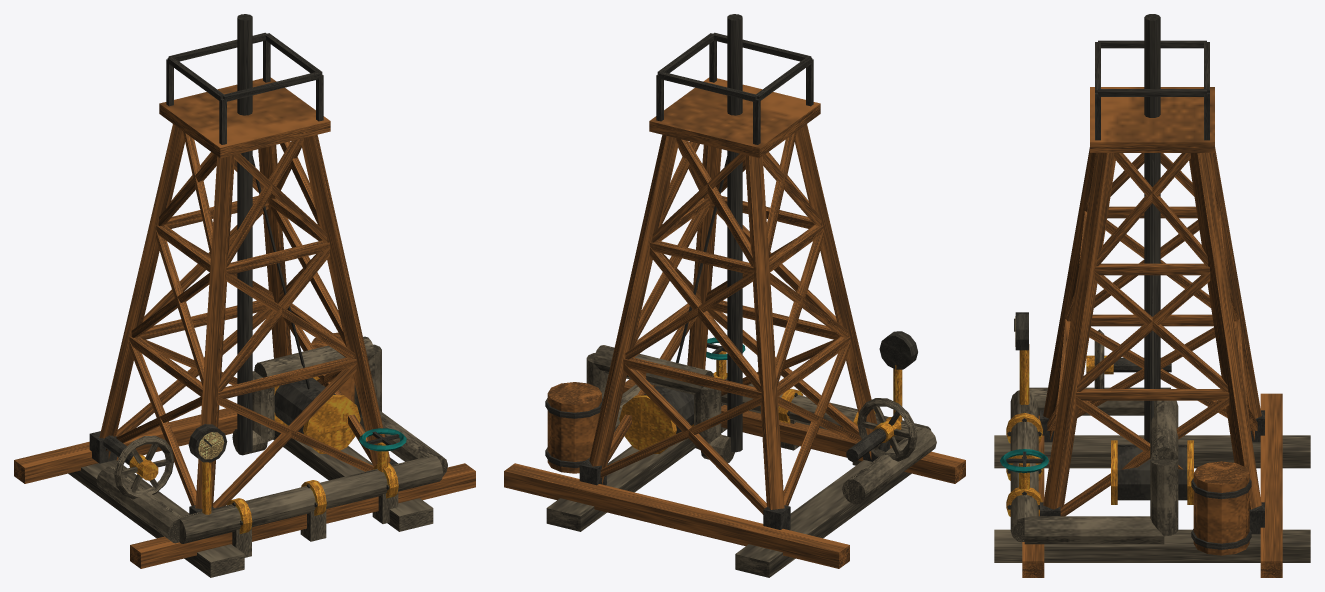
File: derrick-08.glb
3 views of the same model, side by side, from view 1: azimuth 30°, elevation 25°; view 2: azimuth 150°, elevation 25°; view 3: azimuth 270°, elevation 25° (orthographic). The views are drawn at different scales.
Parts seen in each view (by area): view 1: derrick-08; view 2: derrick-08; view 3: derrick-08.
Part boxes in pixels (left/top/right/bottom): derrick-08: left=14, top=14, right=475, bottom=577; derrick-08: left=504, top=14, right=965, bottom=577; derrick-08: left=994, top=14, right=1310, bottom=577.
Bounding box in the file's own units: 5.4 × 7.35 × 4.3.
1 material, 1 textured.
